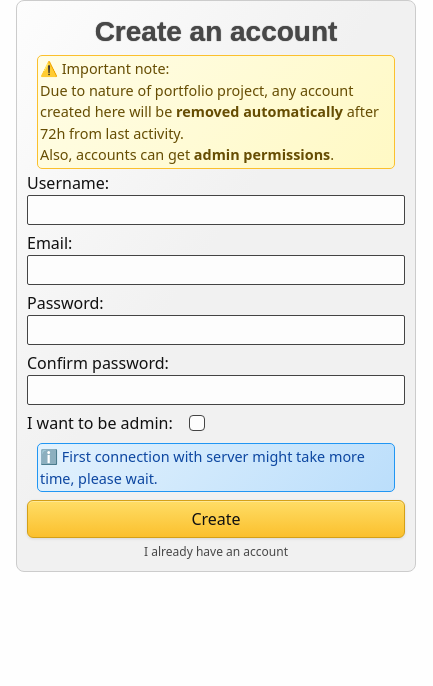
UserRegistration › validation › shows errors eagerly after first submit attempt
Submit the form from the submit button, box [27,500,405,538]
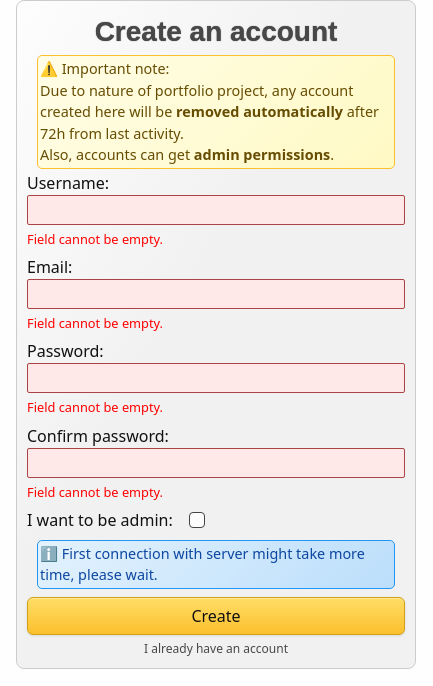
Expected: the number of elements with class "form-text-error" is 4, [27,230,163,248]; [27,314,163,332]; [27,398,163,416]; [27,483,163,501]
Now type a short password (password error should appear immediately).
Type "Ab1@" into the password field with test id "password" at (216, 378), box [27,363,405,393]
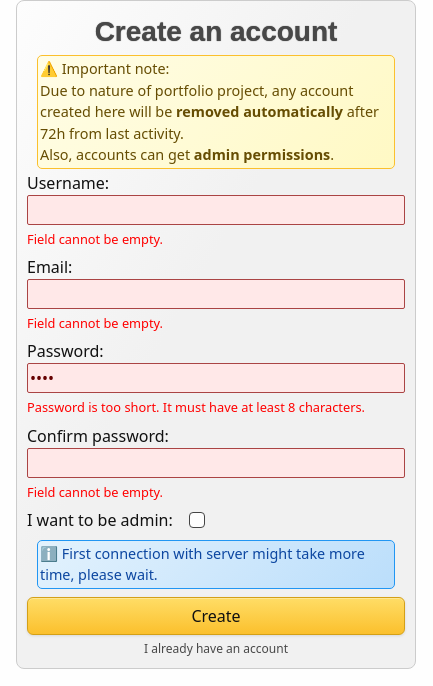
Expected: the text "Password is too short. It must have at least 8 characters." is shown, [27,398,405,418]
Expected: the text with class "form-text-error" reads "Password is too short. It must have at least 8 characters.", [27,398,365,416]
